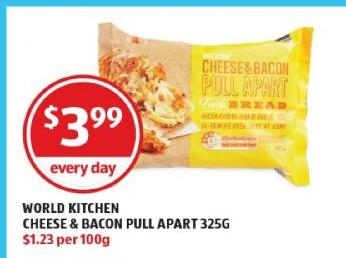description_block: (17, 193, 245, 233)
price_main: (18, 77, 144, 166)
product_image_block: (95, 20, 327, 196)
unit_price_block: (15, 228, 117, 251)
